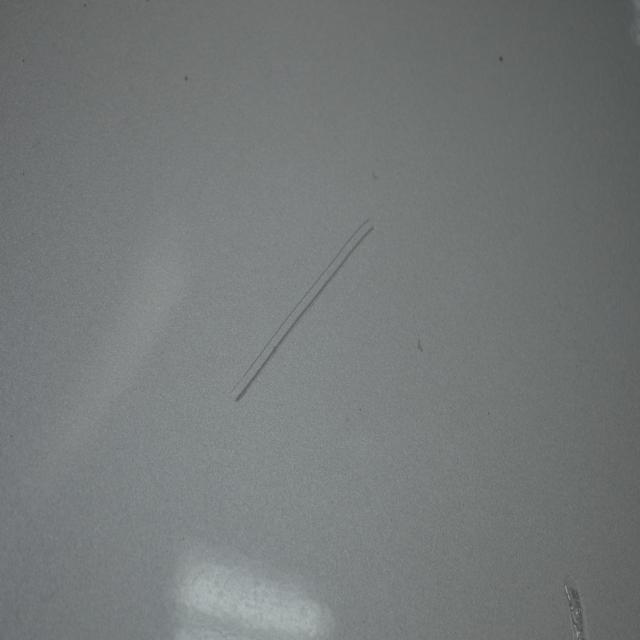dirt: (415, 334, 424, 354), (369, 167, 378, 184), (497, 50, 506, 66), (182, 72, 190, 86)
runs: (567, 577, 588, 640)
scratch: (227, 204, 381, 408)
